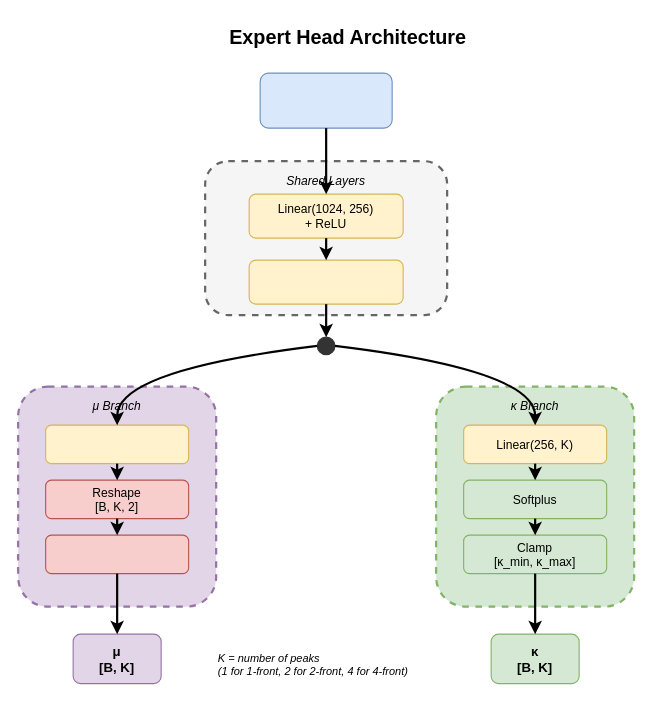
Some shapes in this 652 by 702 pixel diagram are drawn without their labels. Each missing label, with the centre of its shape:
atan2(sin, cos): [117,554]
Global Feature [B, 1024]: [325,100]
Linear(256, 256) + ReLU: [325,281]
Linear(256, K×2): [117,444]
